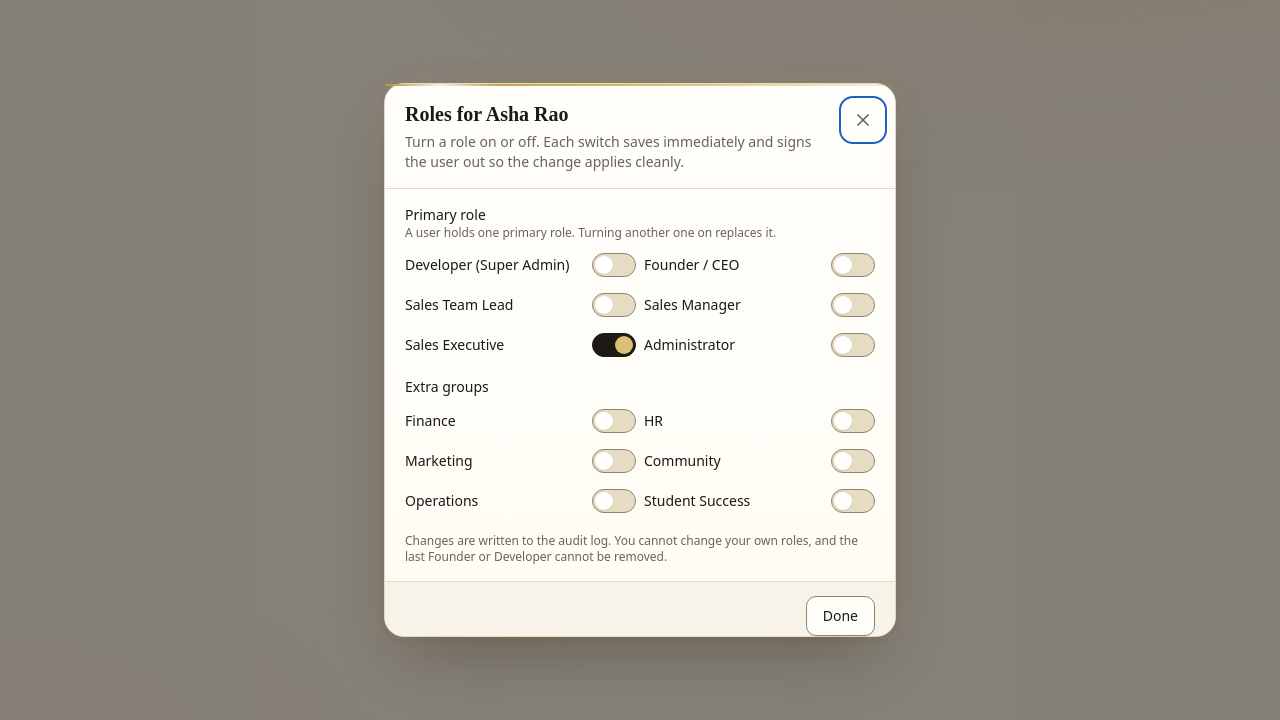
Test case: Developer Panel role toggles › shows the server error and keeps the switch as it was
The image size is (1280, 720).
Click the switch named "Finance" next to "Finance".
click(614, 421)  # box [592, 409, 636, 433]
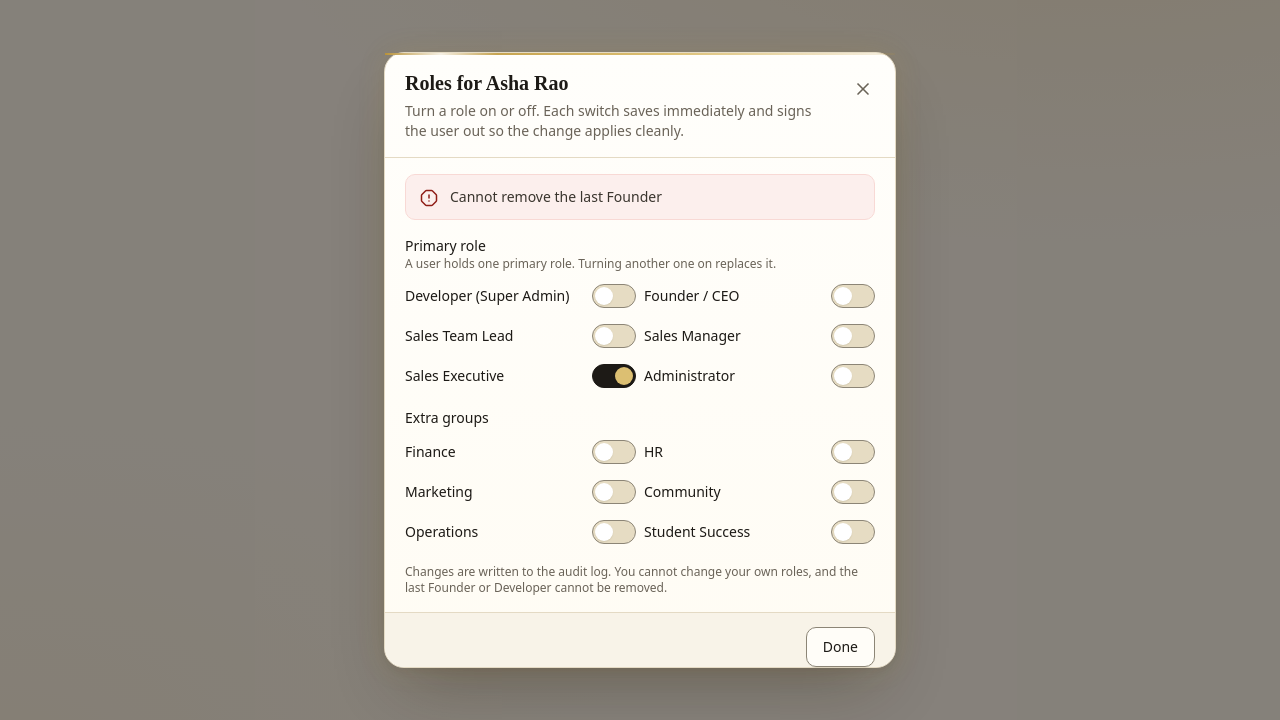
Check: the switch named "Finance" next to "Finance" is not checked, box [592, 440, 636, 464]
Check: the text "Cannot remove the last Founder" is shown, box [450, 187, 662, 206]
